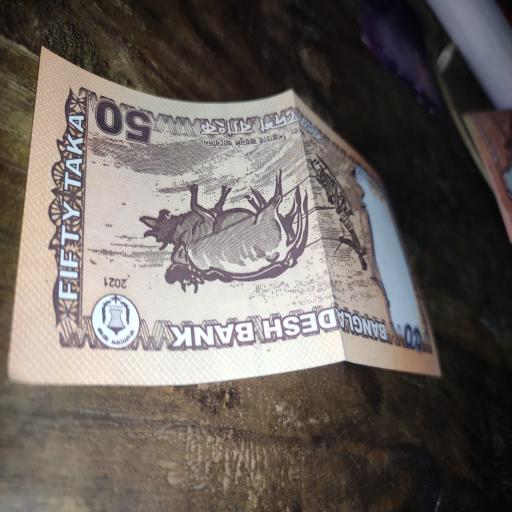50taka: (6, 45, 441, 378)
